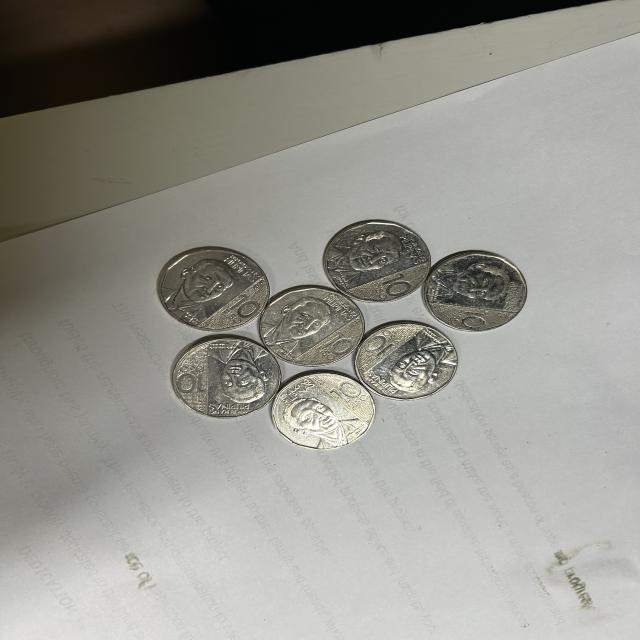10_New_Front: (218, 287, 259, 327), (173, 360, 216, 398), (320, 378, 368, 408), (446, 303, 488, 334), (369, 272, 409, 304), (358, 332, 402, 360), (311, 329, 343, 361)
